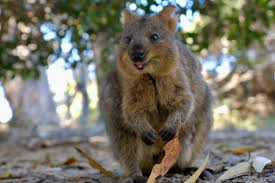quokka: (101, 5, 224, 183)
